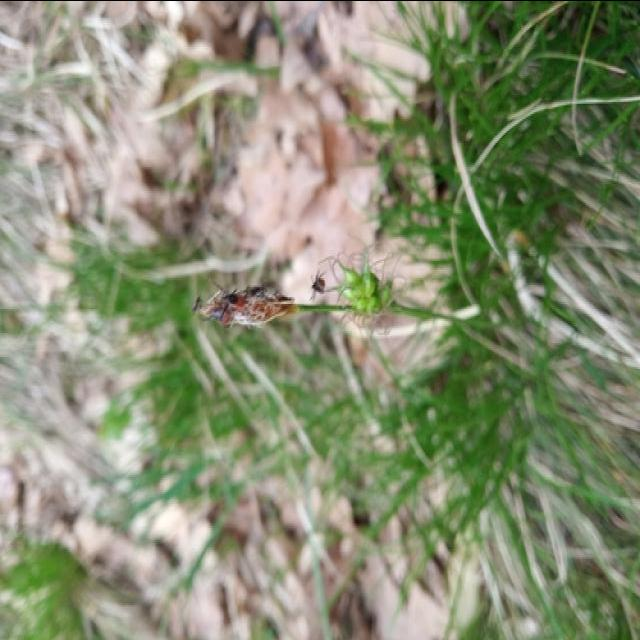Ixodes Ricinus-F: (193, 289, 259, 325)
